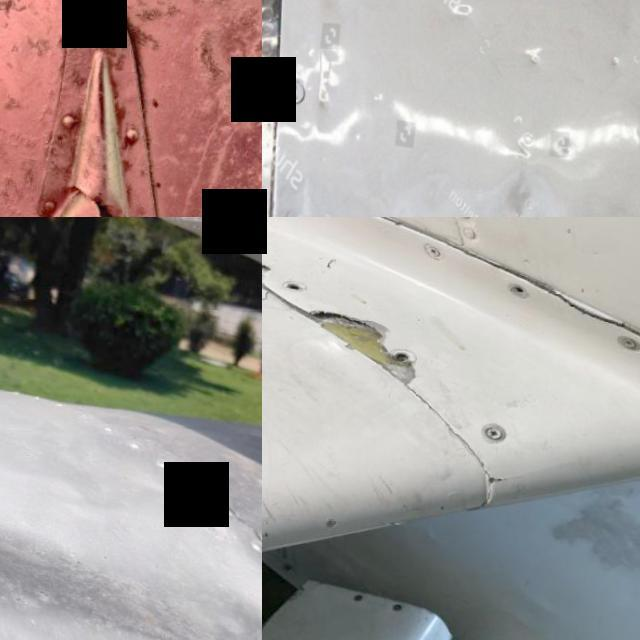Crack: (301, 305, 422, 390), (31, 147, 144, 217), (540, 276, 636, 328), (478, 464, 522, 491), (262, 253, 279, 285)
Dent: (0, 358, 262, 640)
Missing_Fastener: (510, 278, 532, 297), (284, 280, 306, 290)
